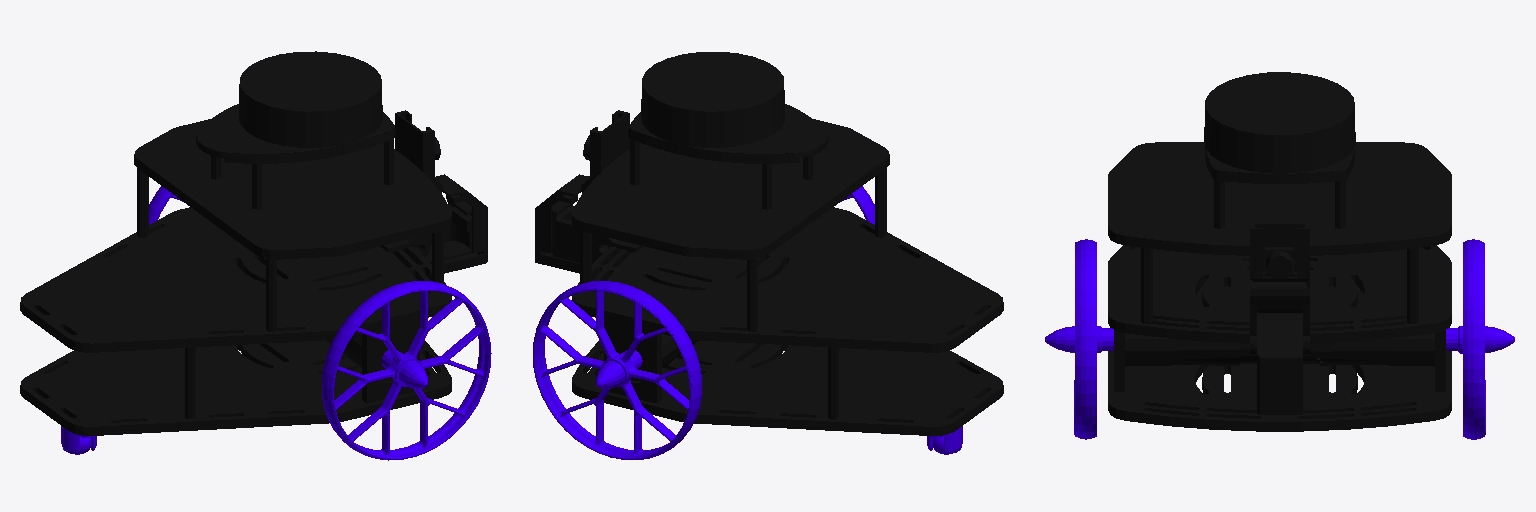
The robot description file, URDF, robot "puzzlebot":
<robot name="puzzlebot">

  <link name="base_footprint">
  </link>

  <link name="base_link">
    <visual>
      <geometry>
        <!-- mesh filename="package://aphelion/meshes/MCR2_puzzlebot_base_mod.stl"/ -->
        <mesh filename="package://aphelion/meshes/MCR2_puzzlebot_jetson_lidar_base_mod.stl"/>
      </geometry>
      <material name="mat">
      <color rgba="0.1 0.1 0.1 1.0"/>
      </material>
      <!-- origin rpy="1.57 0 3.14" xyz="0 0 0.0795" / -->
    </visual>
  </link>
<!-- LIDAR link -->
<link name="laser_link"/>
<link name="camera_link"/>

<!-- LIDAR fixed joint onto base_link -->
<joint name="laser_joint" type="fixed">
  <parent link="base_link"/>
  <child  link="laser_link"/>
  <!-- Ajusta xyz/RPY a la posición real -->
  <origin xyz="0.0 0.0 0.1" rpy="0 0 -3.14"/>
</joint>

<joint name="camera_joint" type="fixed">
    <parent link="base_link"/>
    <child  link="camera_link"/>
    <!-- Ajusta estos valores a la posición real de tu A1 -->
    <origin xyz="0.1 0.0 0.0375" rpy="-1.57 0 3.14"/>
  </joint>

  <link name="wheel_r_link">
    <visual>
      <geometry>
        <mesh filename="package://aphelion/meshes/MCR2_wheel_mod.stl"/>
      </geometry>
      <material name="mat">
      <color rgba="0.3 0.0 1.0 1.0"/>
      </material>
    </visual>
  </link>

  <link name="wheel_l_link">
    <visual>
      <geometry>
        <mesh filename="package://aphelion/meshes/MCR2_wheel_mod.stl"/>
      </geometry>
      <material name="mat">
      <color rgba="0.3 0.0 1.0 1.0"/>
      </material>
    </visual>
  </link>

  <link name="caster_link">
    <visual>
      <geometry>
        <mesh filename="package://aphelion/meshes/MCR2_caster_wheel_mod.stl"/>
      </geometry>
      <material name="mat">
      <color rgba="0.3 0.0 1.0 1.0"/>
      </material>
    </visual>
  </link>

  <!-- link name="lidar_link">
    <visual>
      <geometry>
        <mesh filename="package://aphelion/meshes/MCR2_puzzlebot_jetson_base_mod.stl"/>
      </geometry>
      <material name="mat">
      <color rgba="0.3 0.0 1.0 1.0"/>
      </material>
    </visual>
  </link>

  <link name="lidar_base_link">
    <visual>
      <geometry>
        <mesh filename="package://aphelion/meshes/MCR2_puzzlebot_jetson_lidar_base_mod.stl"/>
      </geometry>
      <material name="mat">
      <color rgba="0.3 0.0 1.0 1.0"/>
      </material>
    </visual>
  </link -->

  <joint name="base_link_joint" type="fixed">
    <parent link="base_footprint"/>
    <child link="base_link"/>
    <origin xyz="0 0 0.0675" rpy="0 0 0"/>
  </joint>

  <!-- joint name="base_lidar_base_joint" type="fixed">
    <parent link="base_link"/>
    <child link="lidar_base_link"/>
    <origin xyz="0 0 0.0675" rpy="0 0 0"/>
  </joint>

  <joint name="base_lidar_joint" type="fixed">
    <parent link="lidar_base_link"/>
    <child link="lidar_link"/>
    <origin xyz="0 0 0.0675" rpy="0 0 0"/>
  </joint -->

  <joint name="wheel_r_joint" type="fixed">
    <parent link="base_link"/>
    <child  link="wheel_r_link"/>
    <!-- origin xyz="2.052 -0.095 -0.0025" rpy="0 0 0"/ -->
    <origin xyz="0.0230 -0.09 -0.0215" rpy="1.57 0 0"/>
  </joint>

  <joint name="wheel_l_joint" type="fixed">
    <parent link="base_link"/>
    <child  link="wheel_l_link"/>
    <origin xyz="0.0230 0.09 -0.0215" rpy="-1.57 0 0"/>
  </joint>

  <joint name="caster_joint" type="fixed">
    <parent link="base_link"/>
    <child  link="caster_link"/>
    <origin xyz="-0.11 0.0 -0.0575" rpy="0 0 0"/>
  </joint>

</robot>

--- Facts derived from the render (not from the file) ---
3 views of the same robot in one strip: view 1: azimuth 30°, elevation 25°; view 2: azimuth 150°, elevation 25°; view 3: azimuth 270°, elevation 25° (orthographic).
Robot: puzzlebot — 7 links, 6 joints (6 fixed); root link base_footprint; default pose: every joint at zero.
Links seen in each view (by area): view 1: base_link, wheel_r_link, caster_link; view 2: base_link, wheel_l_link, caster_link; view 3: base_link, wheel_l_link, wheel_r_link.
Boxes of the visible links, x1,y1,x2,y2 form: base_link: [20, 51, 487, 435]; wheel_r_link: [322, 281, 491, 460]; caster_link: [61, 426, 96, 454]; base_link: [535, 52, 1003, 435]; wheel_l_link: [533, 281, 701, 459]; caster_link: [927, 426, 962, 454]; base_link: [1108, 72, 1451, 431]; wheel_l_link: [1446, 239, 1514, 439]; wheel_r_link: [1045, 239, 1113, 439].
Bounding box of the posed robot: 0.2444 × 0.2192 × 0.1704 m (x, y, z).
Meshes: 3 distinct files referenced, 4 mesh visuals loaded (3 binary STL).